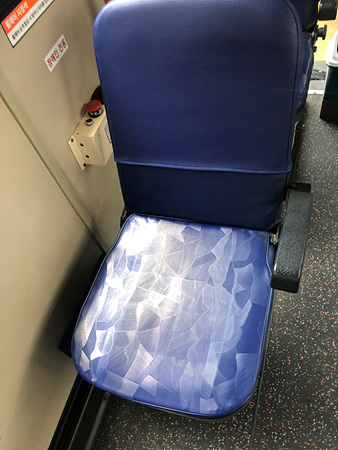seat: (75, 5, 295, 416)
